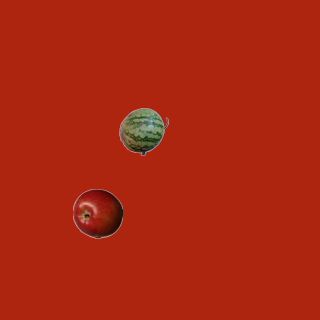Apple Braeburn: (72, 188, 122, 238)
Watermelon: (118, 106, 168, 156)
